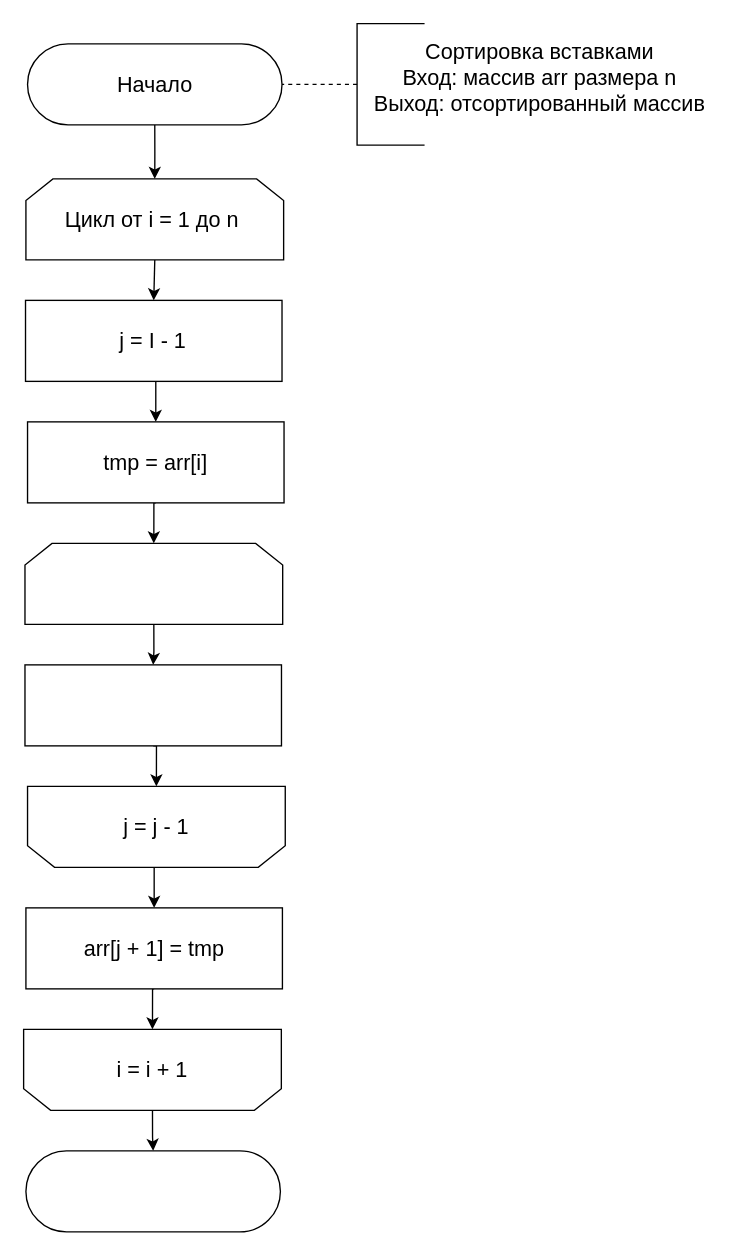
The diagram is 745 pixels wide and 1256 high, and some of its shapes have lost their labels. The shapes that lost their labels are listed below. From the top down, each one's centre as x and y in pixels, then its label:
the point at 153,583: Пока j >= 0 и arr[j] > tmp
the point at 152,705: arr[j + 1] = arr[j]
the point at 152,1191: Конец
